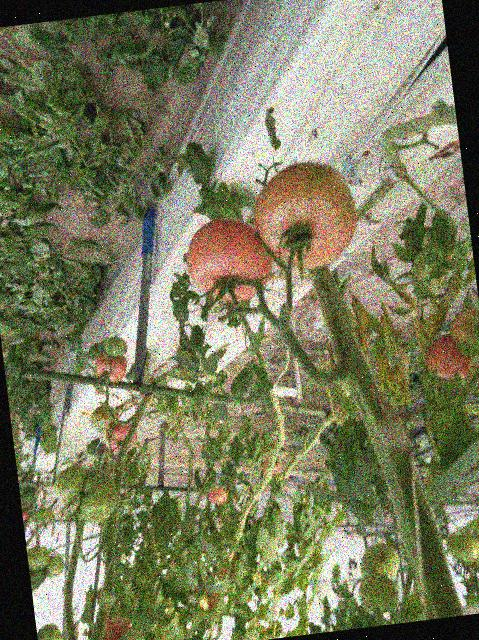b_fully_ripened: (181, 212, 278, 306), (424, 330, 479, 388), (93, 348, 129, 385), (103, 419, 139, 454)
b_green: (75, 467, 121, 524), (356, 569, 402, 616), (358, 540, 403, 585), (52, 465, 91, 505), (89, 403, 120, 434), (26, 545, 51, 572), (102, 335, 128, 358), (42, 554, 66, 578), (36, 621, 63, 640), (115, 627, 145, 640)
b_half_ripened: (247, 156, 363, 276), (448, 306, 479, 350)
